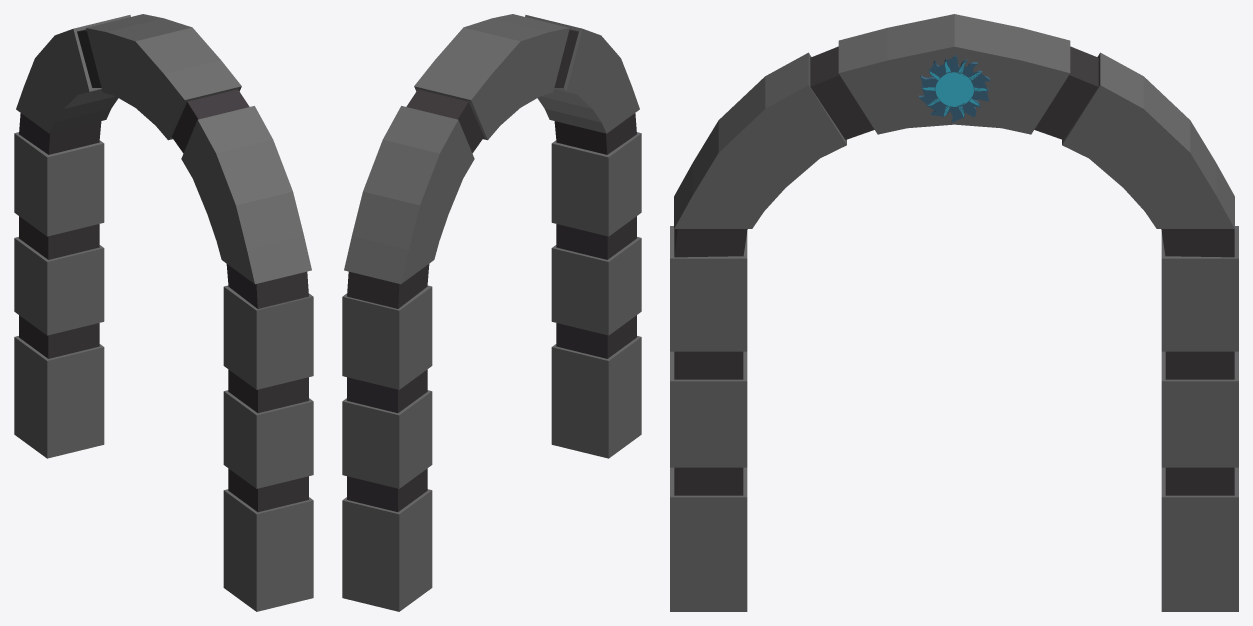
Rendered from SunDoorFrame.fbx.
3 renders of one model, left to right at view 1: azimuth 30°, elevation 25°; view 2: azimuth 150°, elevation 25°; view 3: azimuth 270°, elevation 25°, orthographic. The views are drawn at different scales.
Parts seen in each view (by area): view 1: sunframe; view 2: sunframe; view 3: sunframe.
Boxes of the visible parts, x1,y1,x2,y2 form: sunframe: [14, 14, 313, 611]; sunframe: [342, 14, 641, 611]; sunframe: [670, 14, 1238, 611].
Bounding box in the file's own units: 0.9878 × 7.56 × 6.89.
